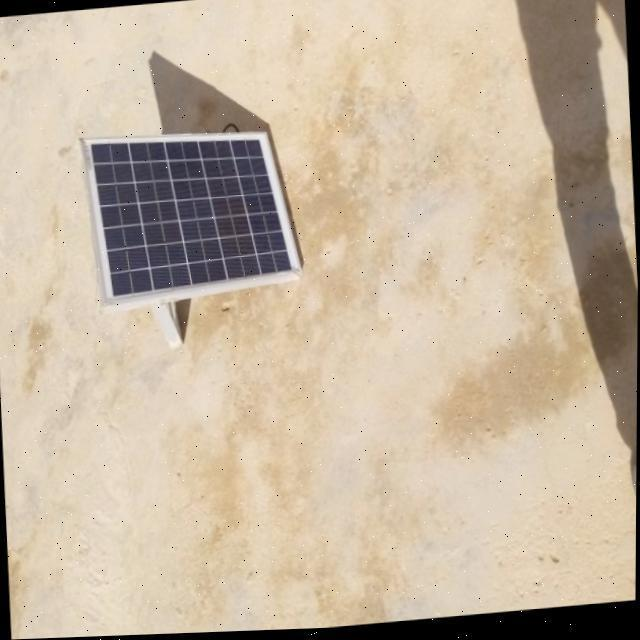Normal Solar Panel: (79, 122, 302, 309)
